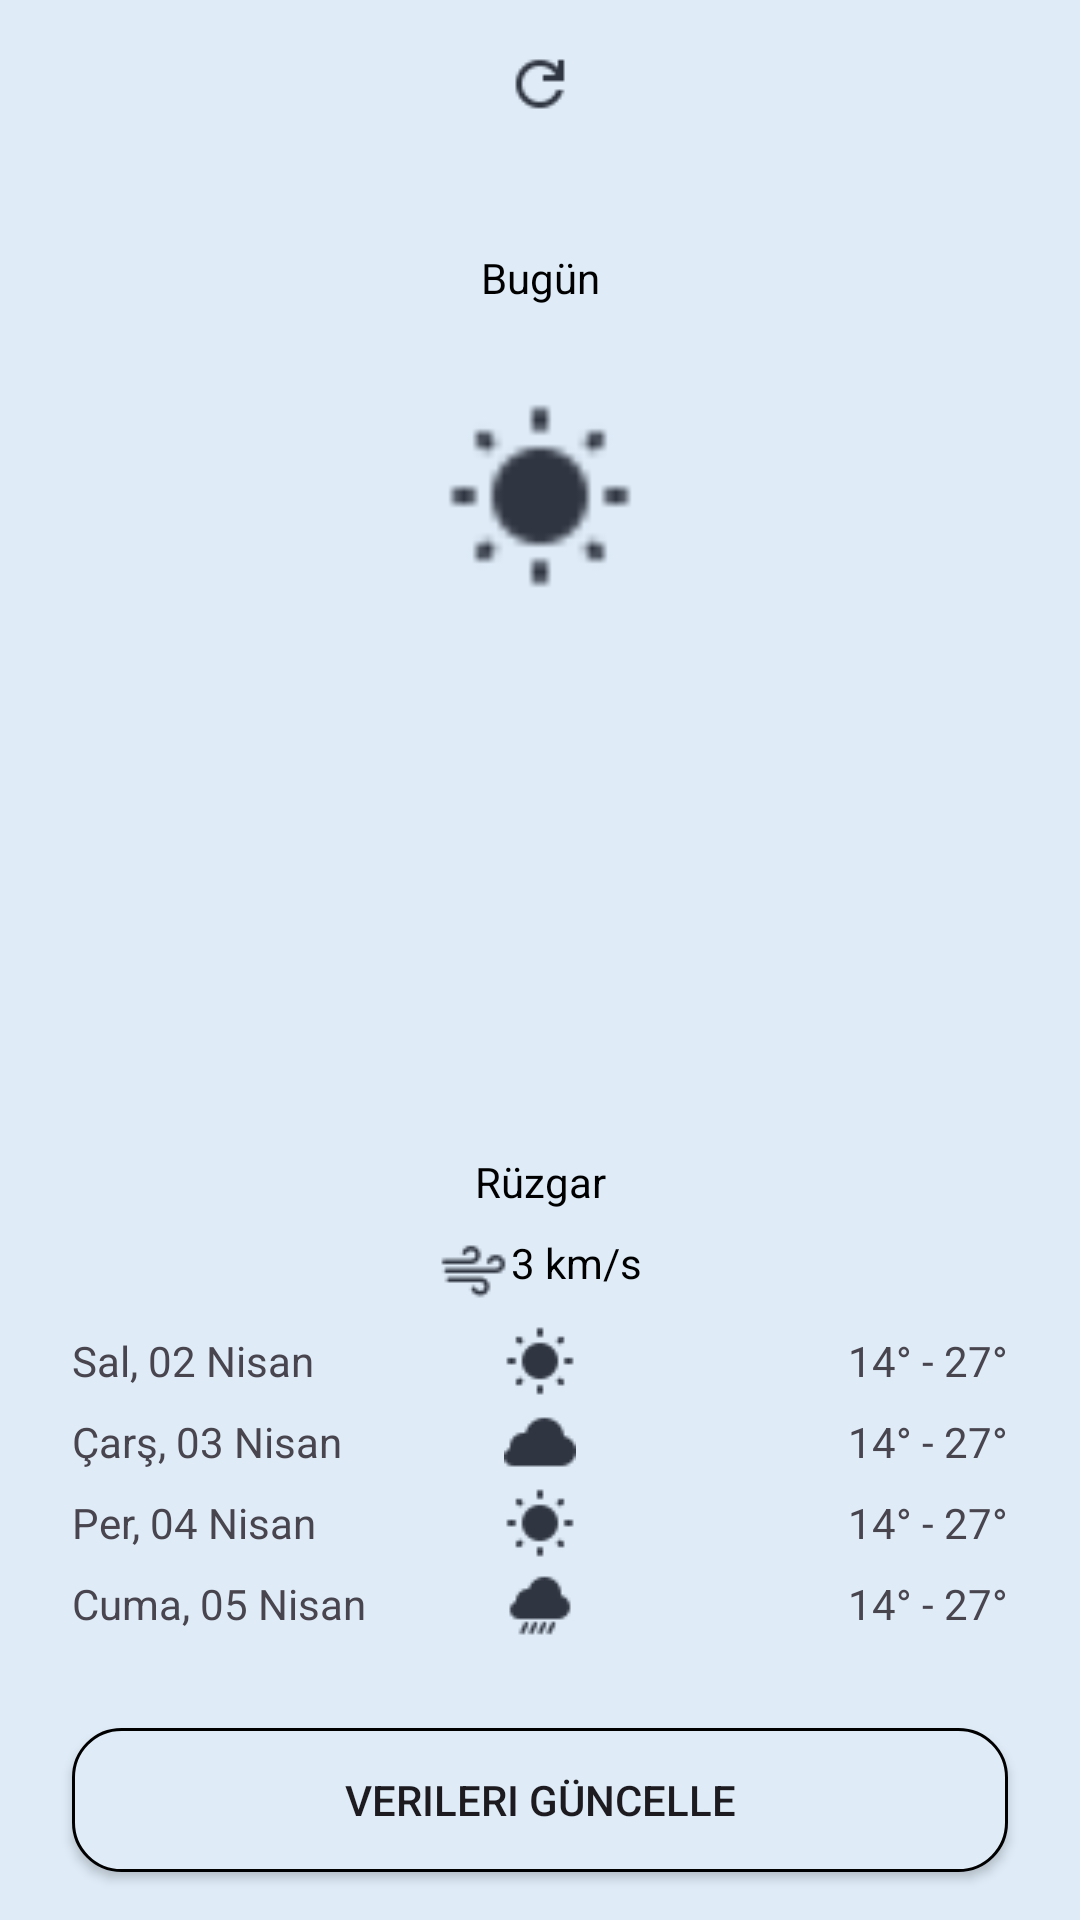

Icon click points for this 1080 x 1920 phone screenshot, format (x,y):
cloudy: (540,1442)
rainy: (540,1605)
refresh: (540,84)
sunny: (540,496), (540,1361), (540,1523)
